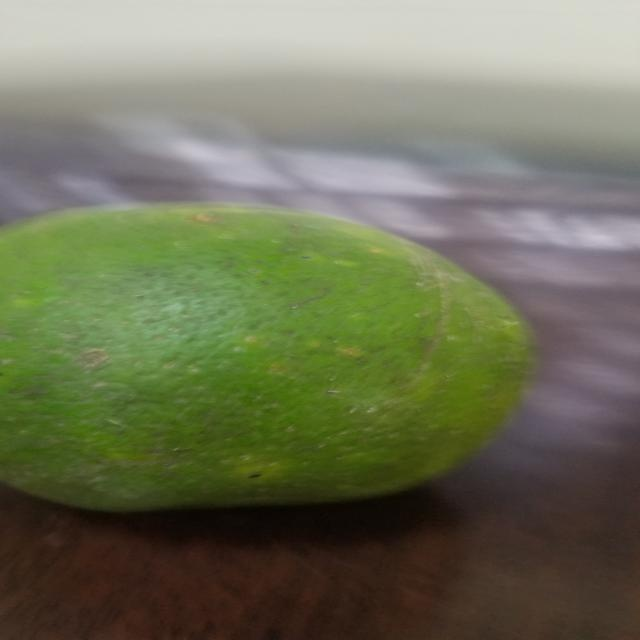agrume: (13, 184, 523, 514)
